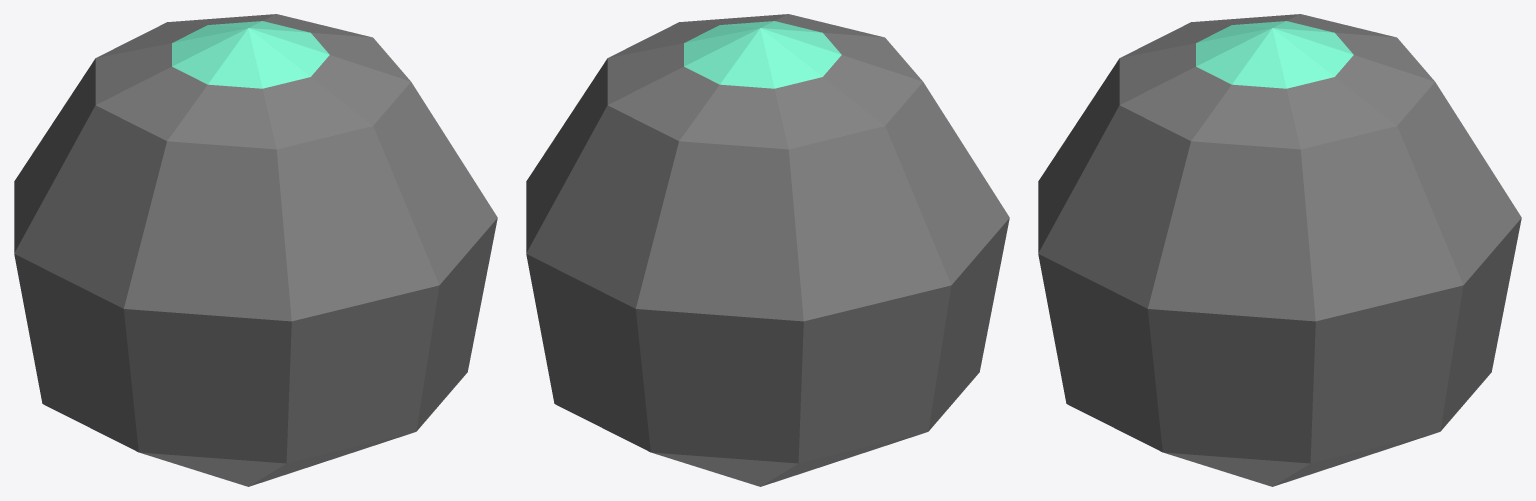
File: Blue Berries_single.fbx
3 renders of one model, left to right at view 1: azimuth 30°, elevation 25°; view 2: azimuth 150°, elevation 25°; view 3: azimuth 270°, elevation 25°, orthographic.
Visible parts, largest first — view 1: Sphere014; view 2: Sphere014; view 3: Sphere014.
Part boxes in pixels (x1,y1,x2,y2): Sphere014: (14, 14, 497, 486); Sphere014: (526, 14, 1009, 486); Sphere014: (1038, 14, 1521, 486).
Bounding box in the file's own units: 2.4 × 2.48 × 2.36.
